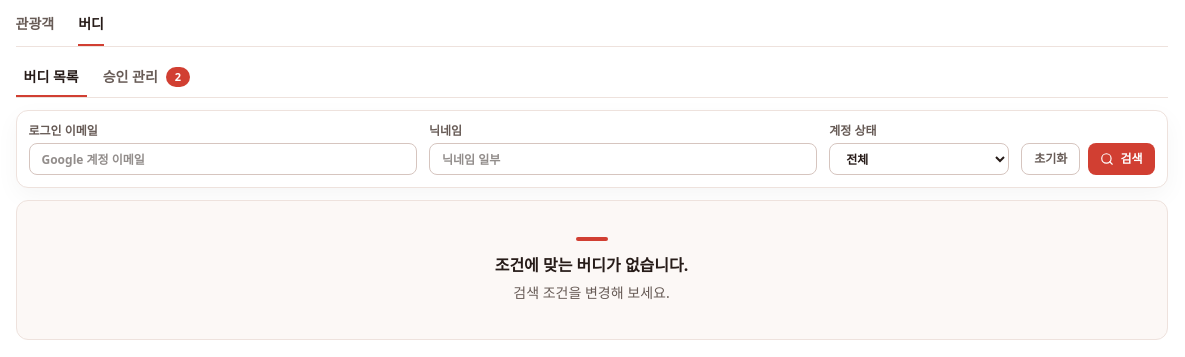
Test: AdminBuddiesDashboard › shows the pending count on the approval tab and switches panels
Step 1. Click the tab "승인 관리 2" → {"x": 146, "y": 78}, box [95, 59, 198, 97]
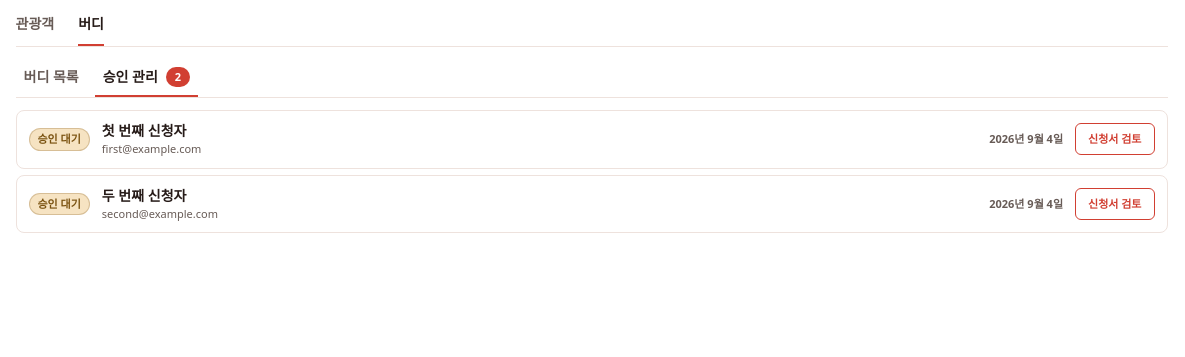
Result: the text "첫 번째 신청자" is shown at [102, 121, 186, 140]
Result: the label labelled "로그인 이메일" is gone
